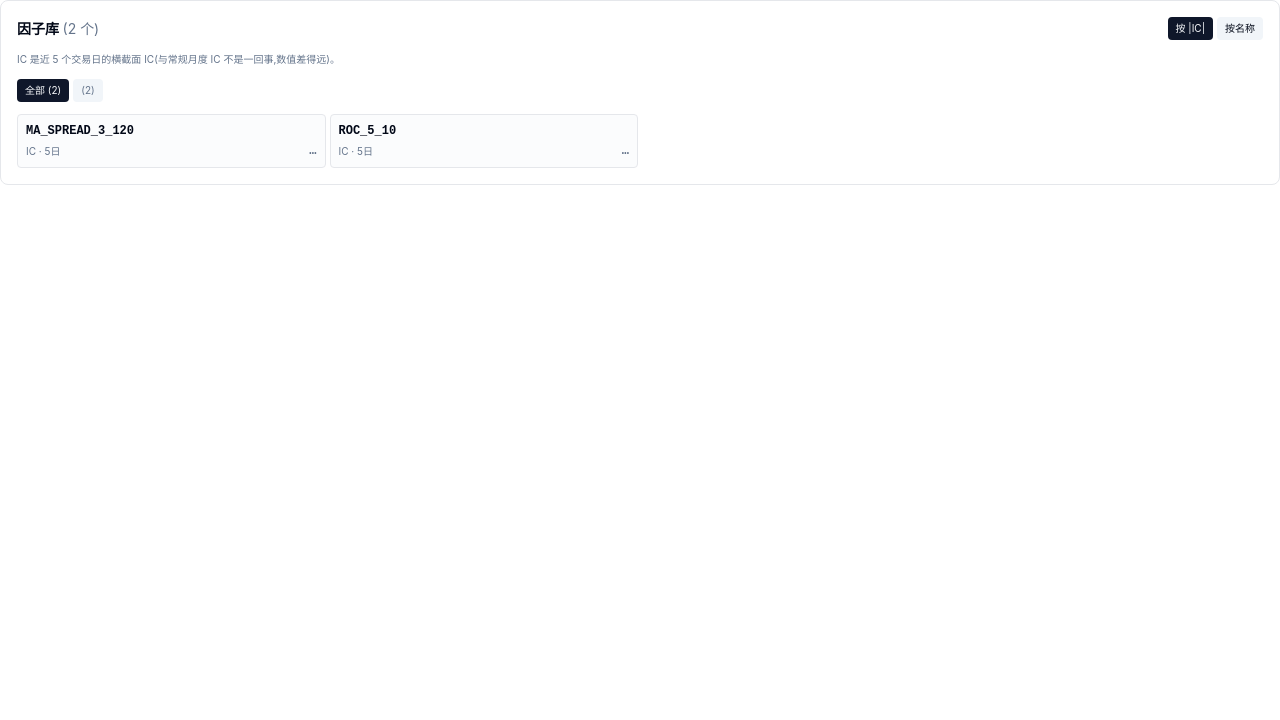
因子 IC 详情取不到时 › 工具在正文里带回错误时,那个错误也要显示出来
Click the text "MA_SPREAD_3_120": x=80, y=131 [26,123,134,139]
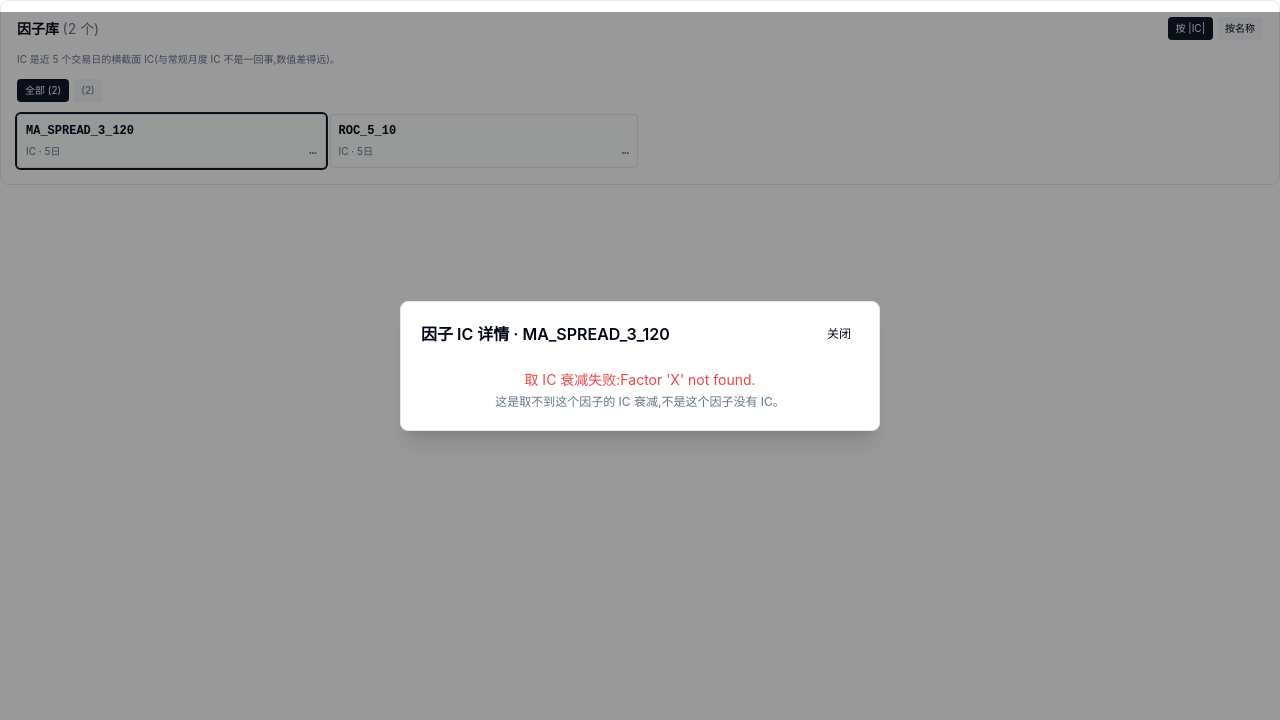
Check: the text "取 IC 衰减失败:Factor 'X' not found." is shown, box [524,371,756,388]
Check: the text "not found" is shown, box [620,371,756,388]
